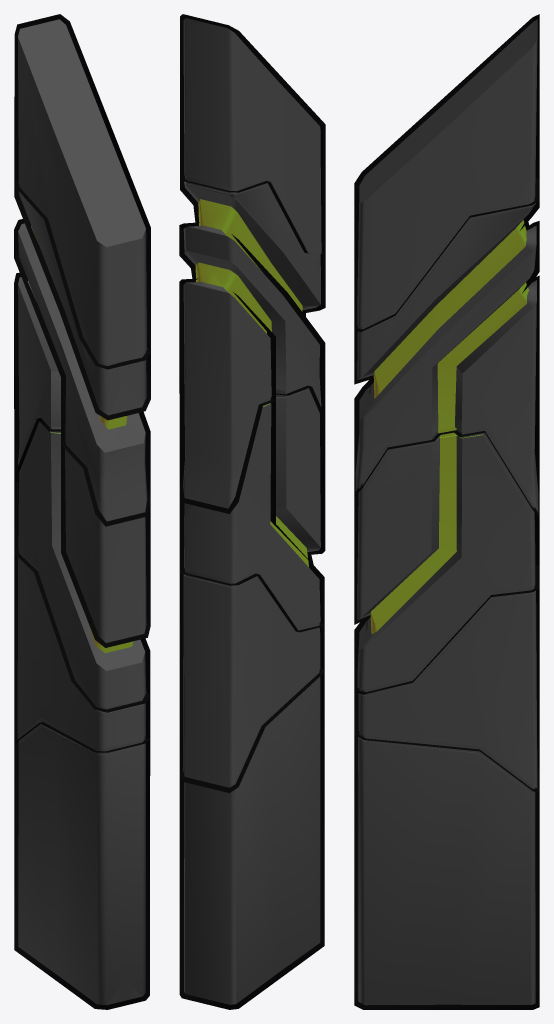
Rendered from Obstacle7.fbx.
3 views of the same model, side by side, from view 1: azimuth 30°, elevation 25°; view 2: azimuth 150°, elevation 25°; view 3: azimuth 270°, elevation 25° (orthographic). The views are drawn at different scales.
Visible parts, largest first — view 1: Fragment, Fragment.001, Cube, Fragment.003, Fragment.002, Fragment.004; view 2: Fragment.002, Cube, Fragment, Fragment.001, Fragment.004, Fragment.003; view 3: Fragment, Fragment.003, Fragment.001, Fragment.002, Cube, Fragment.004.
Boxes of the visible parts, left/top/right/bottom form: Fragment: left=14, top=723, right=150, bottom=1009; Fragment.001: left=14, top=14, right=150, bottom=369; Cube: left=14, top=14, right=150, bottom=1009; Fragment.003: left=14, top=419, right=150, bottom=712; Fragment.002: left=14, top=187, right=150, bottom=526; Fragment.004: left=16, top=556, right=150, bottom=752; Fragment.002: left=179, top=181, right=325, bottom=513; Cube: left=179, top=14, right=325, bottom=1009; Fragment: left=179, top=676, right=323, bottom=1009; Fragment.001: left=180, top=14, right=325, bottom=257; Fragment.004: left=179, top=574, right=324, bottom=793; Fragment.003: left=179, top=387, right=325, bottom=631; Fragment: left=354, top=735, right=539, bottom=1009; Fragment.003: left=354, top=434, right=539, bottom=694; Fragment.001: left=354, top=15, right=539, bottom=331; Fragment.002: left=354, top=201, right=539, bottom=517; Cube: left=354, top=14, right=539, bottom=1009; Fragment.004: left=354, top=591, right=539, bottom=793.
Size of the model in its own units: 72.73 by 1156 by 200.
